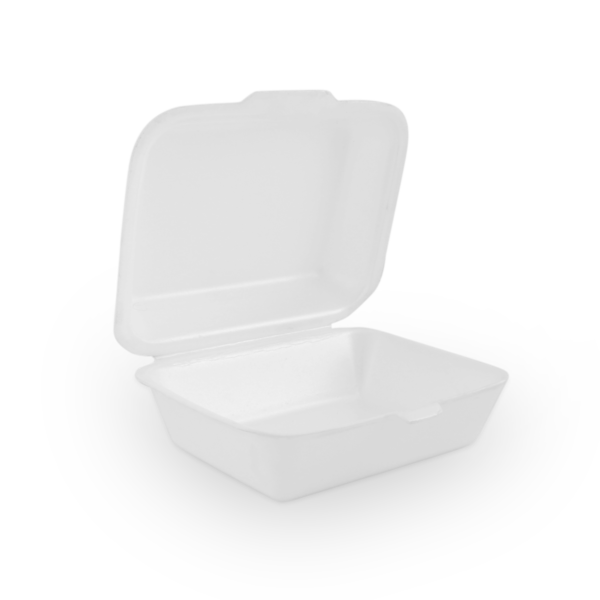Foam Box: (108, 83, 515, 507)
